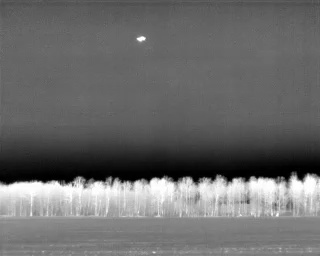DRONE: (133, 32, 150, 47)
